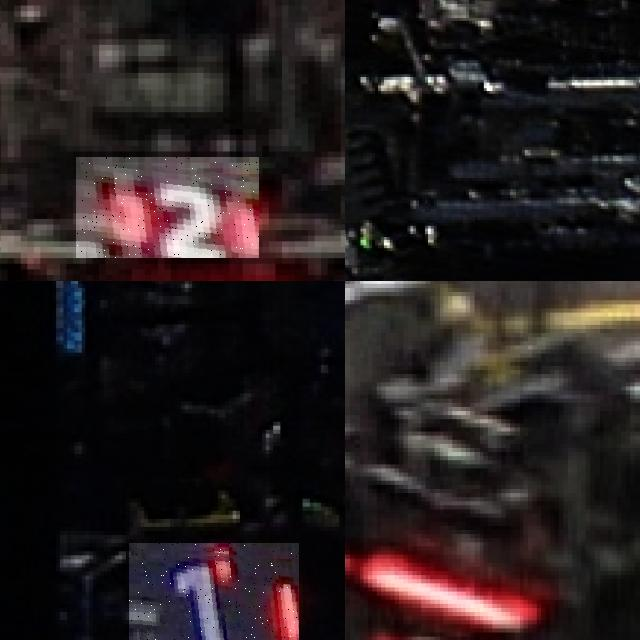R1: (129, 543, 298, 640)
R2: (76, 157, 259, 258)
